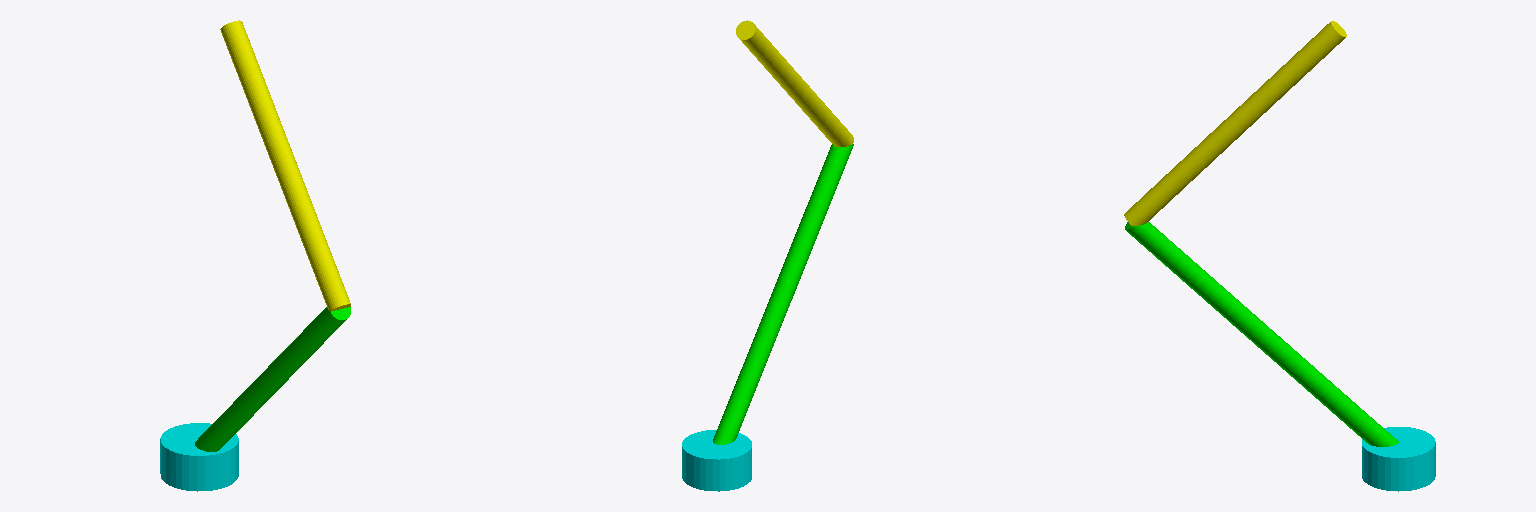
URDF robot description (2_R_robot):
<robot name="2_R_robot">
    <link name="fixed_base">
      <visual>
         <material name="Cyan1">
                  <color rgba="0 0.9 0.9 1.0"/>
         </material>
         <geometry>
            <cylinder length = "0.1" radius = "0.1"/>
         </geometry>
      </visual>
    </link>

    <link name="link_1">
      <visual>
         <material name="Cyan2">
                  <color rgba="0 0.9 0 1.0"/>
         </material>
         <geometry>
            <cylinder length = "1" radius = "0.03"/>
         </geometry>
      </visual>
    </link>            

    <link name="link_2">
      <visual>
      <material name="Cyan3">
                  <color rgba="0.9 0.9 0 1.0"/>
         </material>
         <geometry>
            <cylinder length = "0.8" radius = "0.03"/>
         </geometry>
      </visual>
    </link>


    <joint name="Revolute_joint_1" type="revolute">
      <parent link = "fixed_base"/>
      <child link = "link_1"/>
      <axis xyz = "1 0 0"/>
      <origin rpy = "0.8 0 0" xyz = "0 -0.36 0.3583"/>
      <limit lower = "0" upper = "0.4" effort = "1"/>
    </joint>

    <joint name="Revolute_joint_2" type="revolute">     ### make it of revolute type
      <parent link = "link_1"/>
      <child link = "link_2"/>
      <origin xyz = "0 0.4 0.5" rpy = "1.57 0 0"/>
      <axis xyz = "1 0 0"/>
      <limit lower = "0" upper = "0.4" effort = "1"/>
     
    </joint>

</robot>

--- Facts derived from the render (not from the file) ---
Views: 3 orthographic renders of the robot side by side, from view 1: azimuth 30°, elevation 25°; view 2: azimuth 150°, elevation 25°; view 3: azimuth 270°, elevation 25°.
Robot: 2_R_robot — 3 links, 2 joints (2 revolute); root link fixed_base; default pose: all joints at 0.
Links seen in each view (by area): view 1: link_2, link_1, fixed_base; view 2: link_1, fixed_base, link_2; view 3: link_1, link_2, fixed_base.
Boxes of the visible links, x1,y1,x2,y2 form: link_2: [220, 20, 350, 311]; link_1: [195, 307, 350, 451]; fixed_base: [160, 423, 238, 491]; link_1: [713, 144, 853, 444]; fixed_base: [682, 430, 751, 491]; link_2: [736, 20, 853, 146]; link_1: [1125, 222, 1398, 446]; link_2: [1124, 21, 1346, 225]; fixed_base: [1362, 427, 1435, 491].
Bounding box of the posed robot: 0.2 × 0.8404 × 1.35 m (x, y, z).
Geometry: primitives only (box / cylinder / sphere), no mesh files.